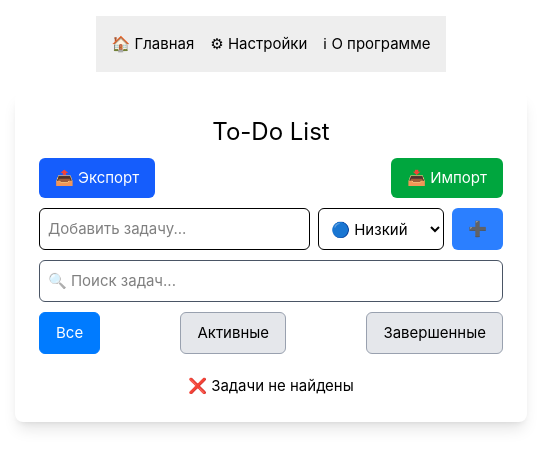
Test: To-Do App › Удаляет задачу
Type "Купить хлеб" into the field with test id "task-input" at (175, 229), box [39,208,310,250]
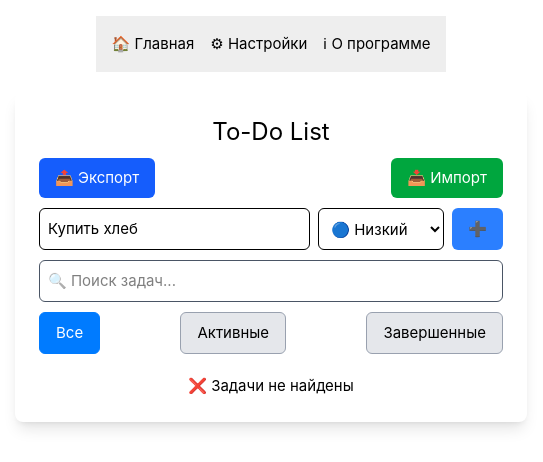
Click the button with test id "add-task__btn" at (478, 229), box [452,208,503,250]
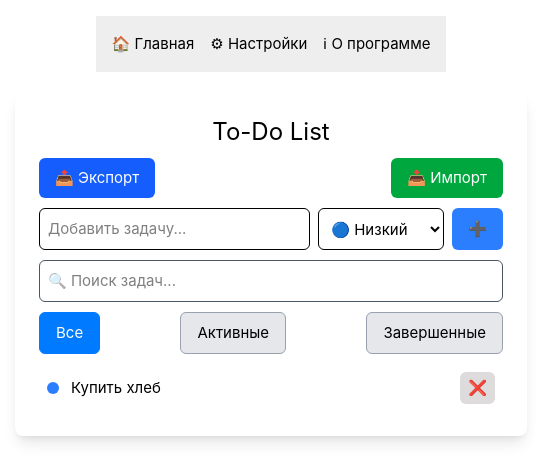
Expected: the text "Купить хлеб" is shown, [71,376,161,400]
Click the button with class "delete-btn" at (478, 388), box [460,372,495,404]
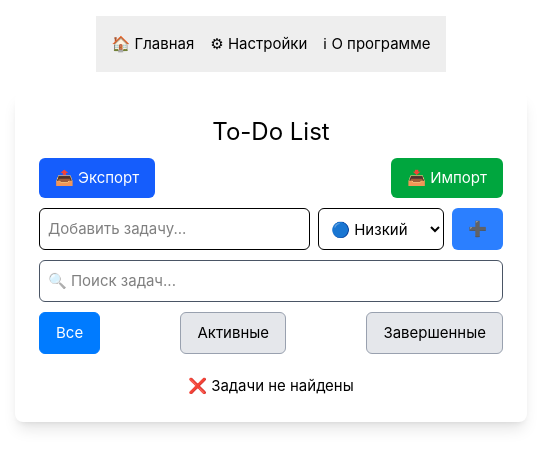
Expected: the text "Купить хлеб" is gone
